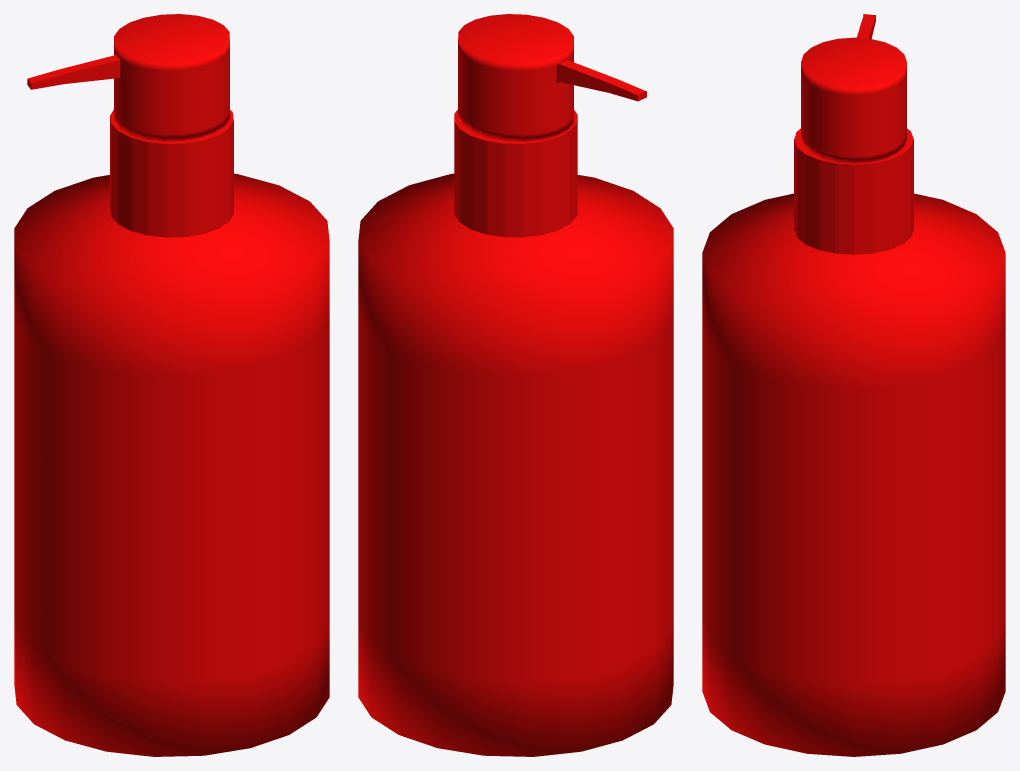
File: ShampooBottleJamesWenPaintedMesh.fbx
3 renders of one model, left to right at view 1: azimuth 30°, elevation 25°; view 2: azimuth 150°, elevation 25°; view 3: azimuth 270°, elevation 25°, orthographic. The views are drawn at different scales.
Visible parts, largest first — view 1: pCylinder1, polySurface6, pCylinder2, polySurface1; view 2: pCylinder1, polySurface6, pCylinder2, polySurface1; view 3: pCylinder1, polySurface6, pCylinder2.
Part boxes in pixels (x1=…): pCylinder1: x1=14, y1=173, x2=329, y2=756; polySurface6: x1=114, y1=14, x2=229, y2=141; pCylinder2: x1=110, y1=109, x2=233, y2=237; polySurface1: x1=28, y1=55, x2=120, y2=89; pCylinder1: x1=358, y1=173, x2=673, y2=756; polySurface6: x1=458, y1=14, x2=643, y2=141; pCylinder2: x1=454, y1=110, x2=577, y2=237; polySurface1: x1=558, y1=60, x2=645, y2=101; pCylinder1: x1=702, y1=193, x2=1005, y2=756; polySurface6: x1=801, y1=14, x2=906, y2=163; pCylinder2: x1=794, y1=128, x2=913, y2=254.
Bounding box in the file's own units: 2.53 × 5.85 × 2.5.
